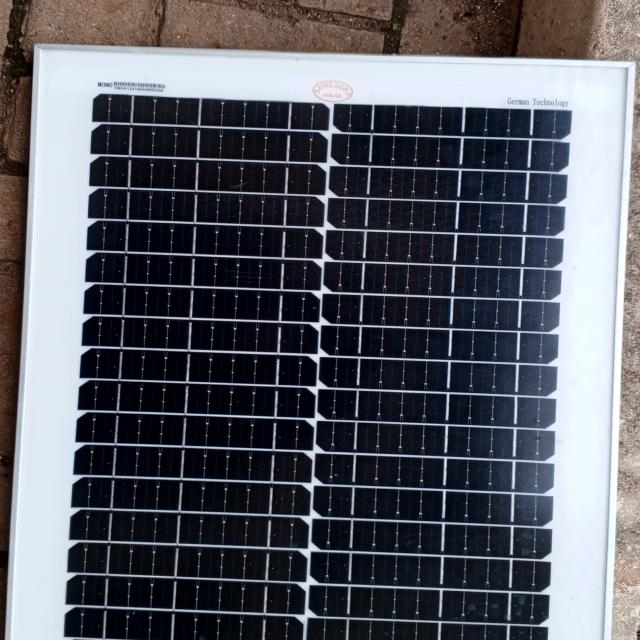Clean: (47, 63, 596, 639)
